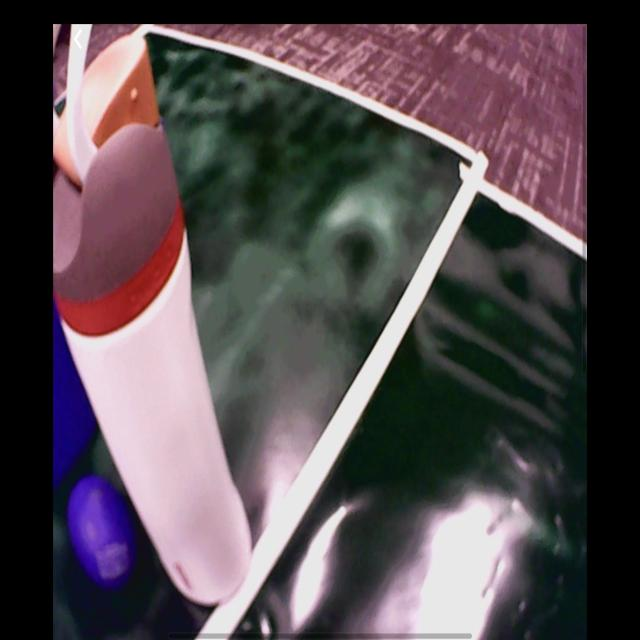ball: (70, 475, 136, 584)
